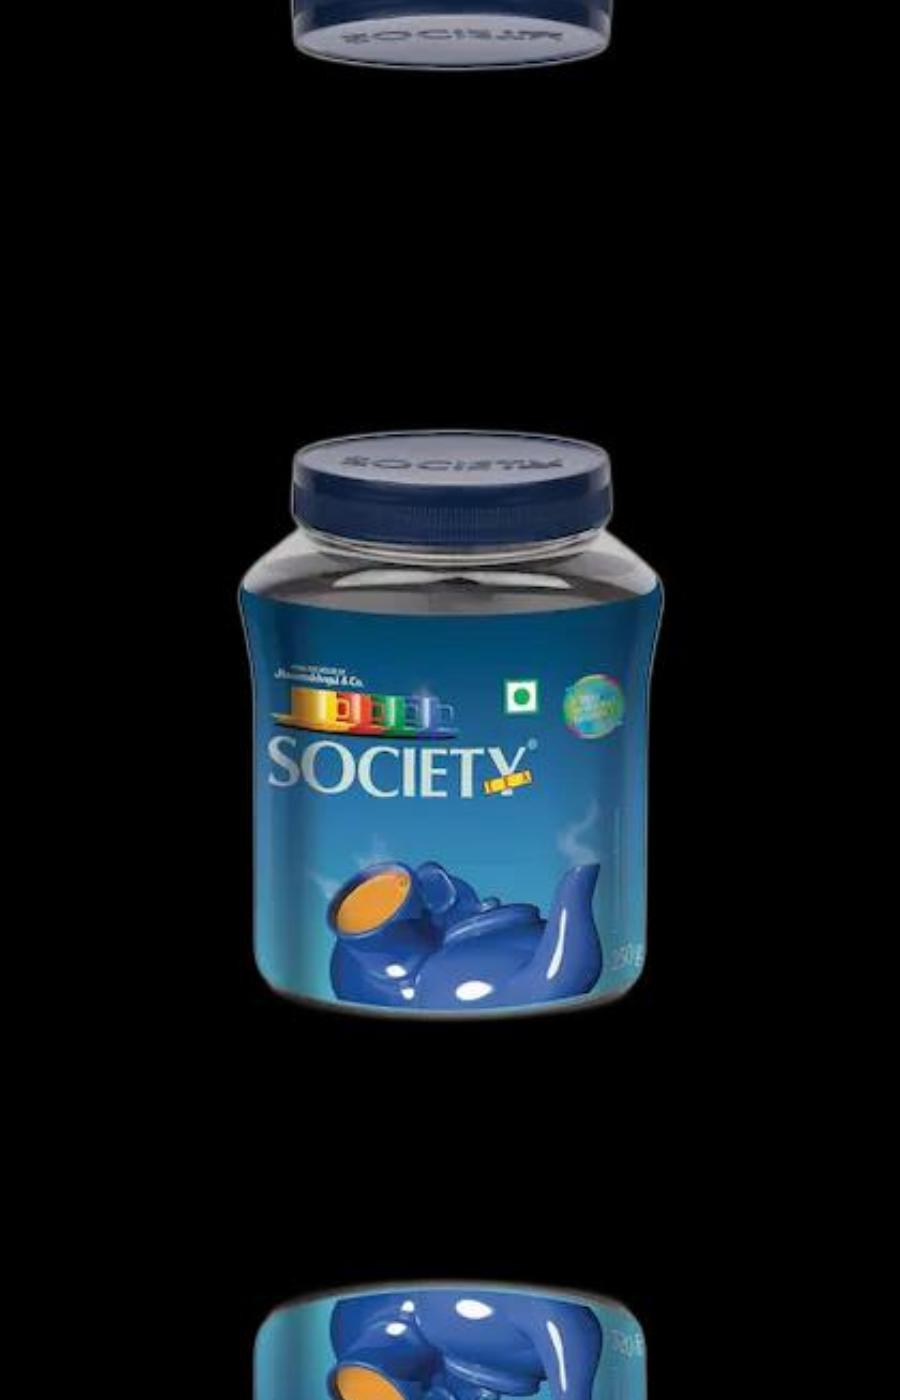Society Leaf Tea 250g Jar: (233, 418, 671, 1015)
